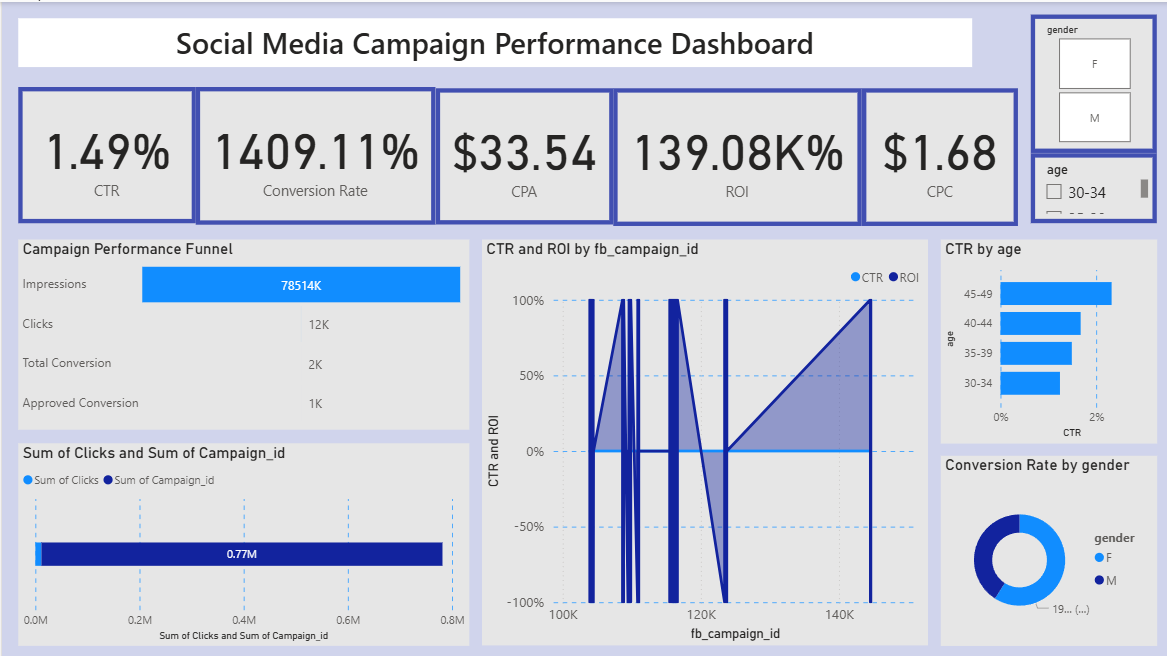

Layout of this report page (visuals, bound fields, positions):
{"tool":"powerbi","page":{"name":"Page 1","canvas":[1280,720],"ordinal":0},"visuals":[{"type":"card","fields":{"Values":["ad_dataset.CPC"]},"box":[944.1,94.7,171.5,150.9],"z":0},{"type":"card","fields":{"Values":["ad_dataset.CPA"]},"box":[476.2,94.7,194.9,149.6],"z":1000},{"type":"card","fields":{"Values":["ad_dataset.CTR"]},"box":[17.8,93.3,194.9,149.6],"z":2000},{"type":"card","fields":{"Values":["ad_dataset.Conversion Rate"]},"box":[212.7,93.3,263.5,150.9],"z":3000},{"type":"card","fields":{"Values":["ad_dataset.ROI"]},"box":[671,94.7,273.1,150.9],"z":4000},{"type":"funnel","title":"Campaign Performance Funnel","fields":{"Y":["Sum(ad_dataset.Impressions)","Sum(ad_dataset.Clicks)","Sum(ad_dataset.Total_Conversion)","Sum(ad_dataset.Approved_Conversion)"]},"box":[17.8,260.7,495.4,208.6],"z":5000},{"type":"barChart","fields":{"Y":["Sum(ad_dataset.Clicks)","Sum(ad_dataset.Campaign_id)"]},"box":[17.8,484.4,495.4,222.3],"z":6000},{"type":"hundredPercentStackedAreaChart","fields":{"Category":["ad_dataset.fb_campaign_id"],"Y":["ad_dataset.CTR","ad_dataset.ROI"]},"box":[526.9,260.7,489.9,446],"z":7000},{"type":"barChart","fields":{"Y":["ad_dataset.CTR"],"Category":["ad_dataset.age"]},"box":[1030.5,260.7,237.4,223.7],"z":8000},{"type":"donutChart","fields":{"Category":["ad_dataset.gender"],"Y":["ad_dataset.Conversion Rate"]},"box":[1030.5,498.1,237.4,208.6],"z":9000},{"type":"textbox","box":[17.8,17.8,1047,53.5],"z":10000},{"type":"slicer","fields":{"Values":["ad_dataset.age"]},"box":[1129.3,166,138.6,76.8],"z":11000},{"type":"slicer","fields":{"Values":["ad_dataset.gender"]},"box":[1129.3,13.7,138.6,152.3],"z":12000}]}

Visuals, with their boxes in screenshot pixels (x1, y1, x2, y2), scaled from the page's 1280x720 canvas onto the 1167x656 screenshot:
card - ad_dataset.CPC: [861,86,1017,224]
card - ad_dataset.CPA: [434,86,612,223]
card - ad_dataset.CTR: [16,85,194,221]
card - ad_dataset.Conversion Rate: [194,85,434,222]
card - ad_dataset.ROI: [612,86,861,224]
"Campaign Performance Funnel" funnel: [16,238,468,428]
barChart - Sum(ad_dataset.Clicks) x Sum(ad_dataset.Campaign_id): [16,441,468,644]
hundredPercentStackedAreaChart - ad_dataset.fb_campaign_id x ad_dataset.CTR: [480,238,927,644]
barChart - ad_dataset.CTR x ad_dataset.age: [940,238,1156,441]
donutChart - ad_dataset.gender x ad_dataset.Conversion Rate: [940,454,1156,644]
textbox: [16,16,971,65]
slicer - ad_dataset.age: [1030,151,1156,221]
slicer - ad_dataset.gender: [1030,12,1156,151]
